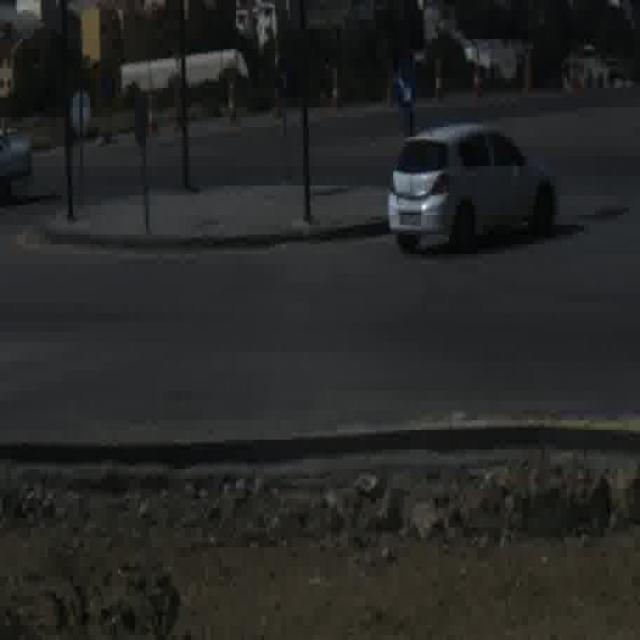Car: (386, 121, 560, 253), (0, 129, 34, 208)
